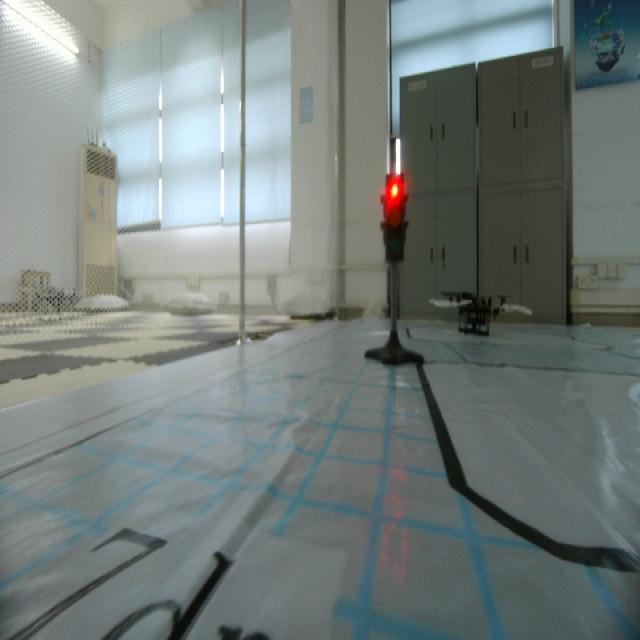red: (380, 168, 410, 268)
